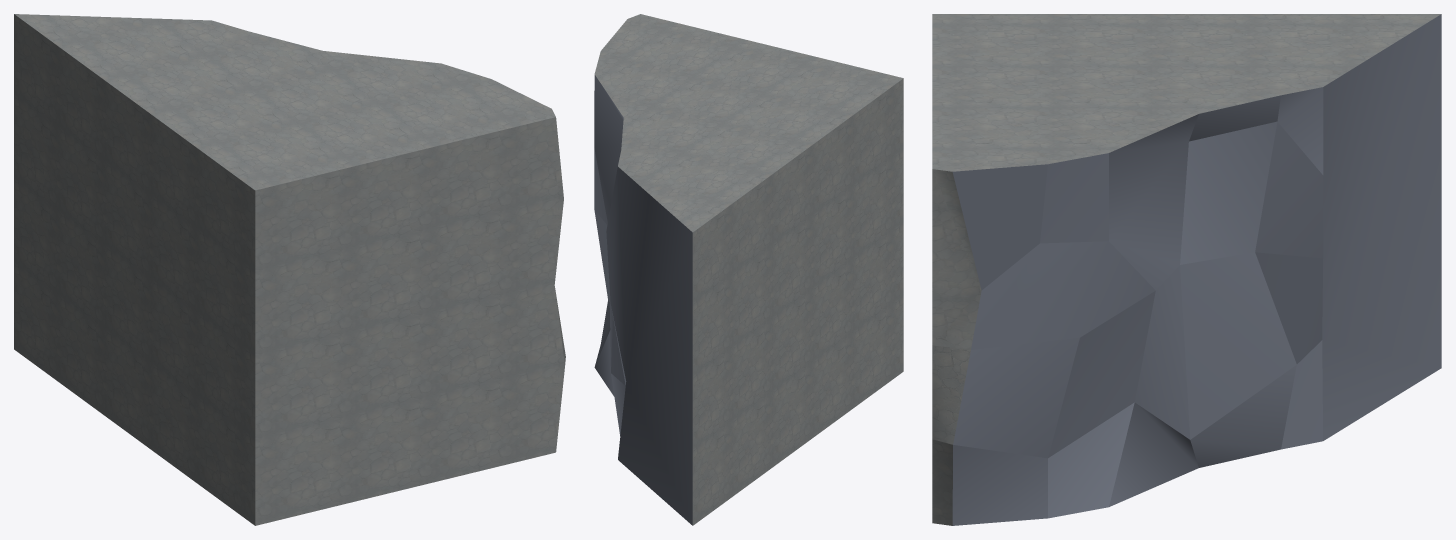
File: Platform_Broken (11).obj
3 renders of one model, left to right at view 1: azimuth 30°, elevation 25°; view 2: azimuth 150°, elevation 25°; view 3: azimuth 270°, elevation 25°, orthographic. The views are drawn at different scales.
Visible parts, largest first — view 1: Platform_Broken (11); view 2: Platform_Broken (11); view 3: Platform_Broken (11).
Part boxes in pixels (x1,y1,x2,y2): Platform_Broken (11): (14, 14, 565, 525); Platform_Broken (11): (594, 14, 903, 525); Platform_Broken (11): (932, 14, 1441, 525).
Size of the model in its own units: 4 by 4 by 5.21.
Materials: 2 (1 with a texture image).
